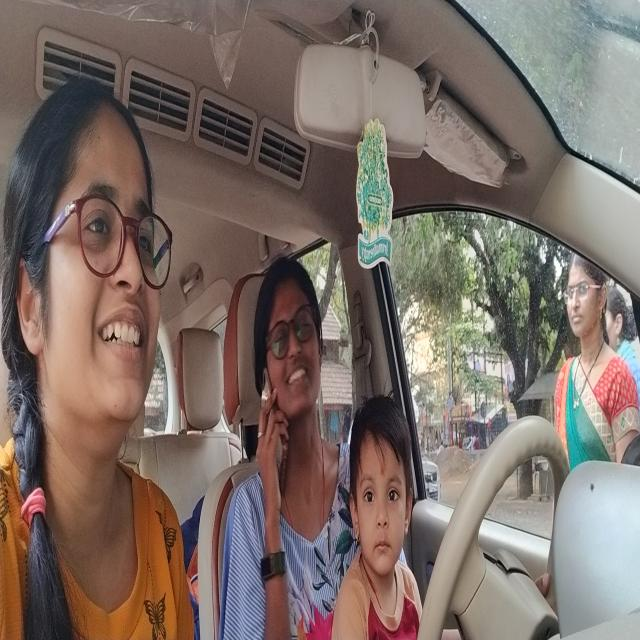child: (346, 388, 416, 578)
mobile: (258, 362, 291, 496)
person: (2, 64, 170, 471), (252, 248, 326, 428)
